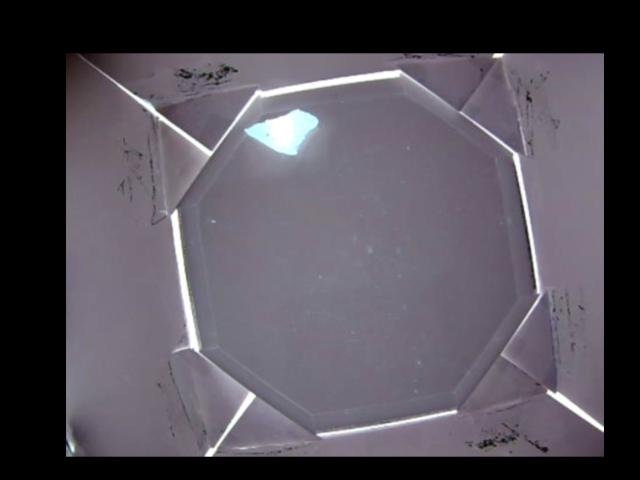Brisk: (245, 107, 318, 155)
